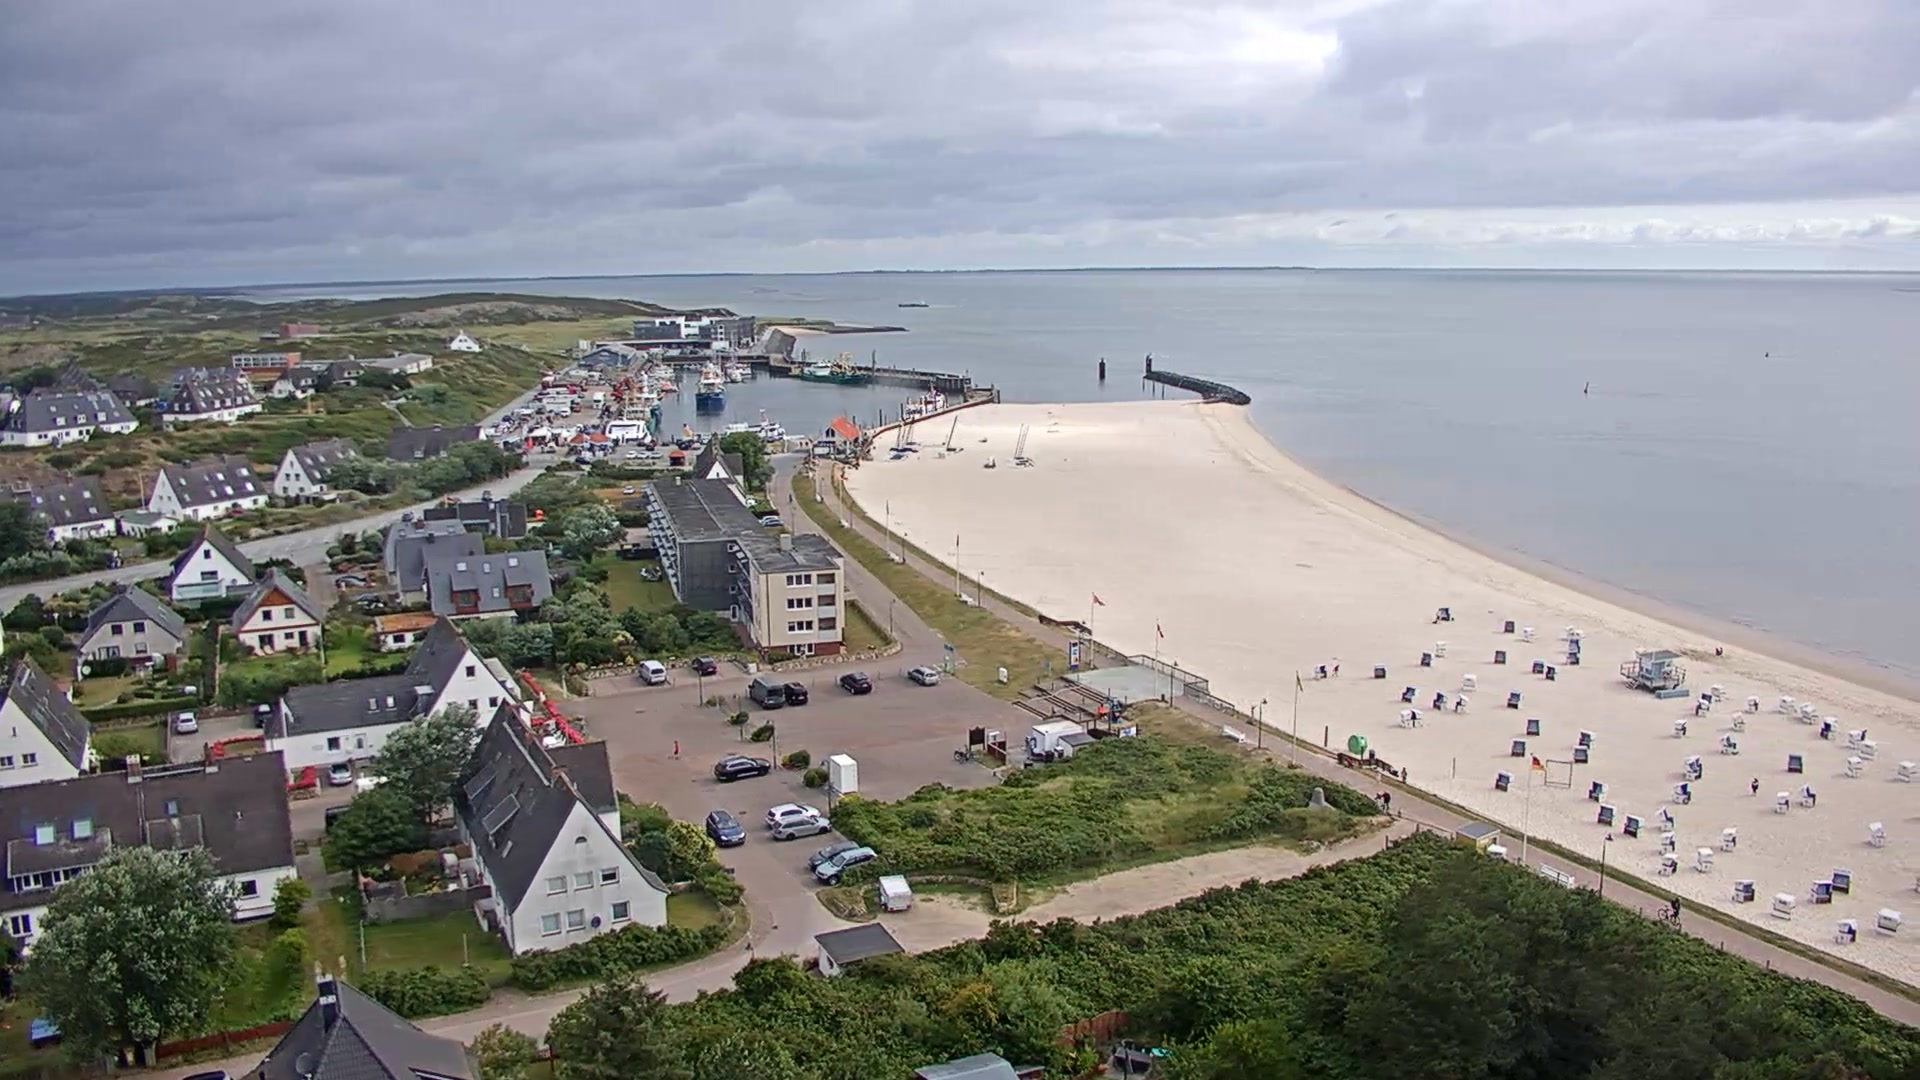human: (1669, 895, 1681, 924), (1110, 699, 1121, 722), (1381, 790, 1391, 812), (1098, 702, 1109, 723), (671, 739, 680, 760), (1751, 777, 1759, 797), (1400, 766, 1408, 783), (1332, 663, 1340, 678), (1374, 791, 1381, 809), (789, 492, 793, 503)
land: (816, 846, 876, 886), (713, 753, 770, 783), (806, 840, 858, 872), (706, 809, 746, 848), (772, 815, 831, 841), (763, 803, 820, 829), (747, 676, 784, 710), (914, 1059, 960, 1079), (839, 671, 872, 694), (638, 659, 666, 685), (783, 681, 808, 706), (327, 761, 353, 785), (907, 666, 938, 686), (690, 655, 718, 676), (174, 711, 197, 734), (1657, 904, 1681, 926), (254, 702, 272, 726), (335, 575, 365, 587), (353, 592, 379, 604), (953, 744, 969, 762), (592, 390, 605, 408), (762, 518, 782, 526), (758, 515, 778, 523), (545, 442, 556, 453), (648, 449, 662, 458), (622, 484, 634, 494), (635, 449, 649, 458), (624, 450, 637, 459), (559, 406, 570, 416), (680, 440, 690, 449), (691, 442, 700, 449), (661, 441, 670, 446), (767, 436, 774, 443)
sea: (680, 409, 786, 442), (801, 351, 867, 385), (902, 381, 947, 420), (604, 417, 652, 445), (618, 404, 656, 437), (693, 378, 725, 410), (1013, 421, 1033, 466), (961, 368, 998, 391), (899, 299, 930, 307)
